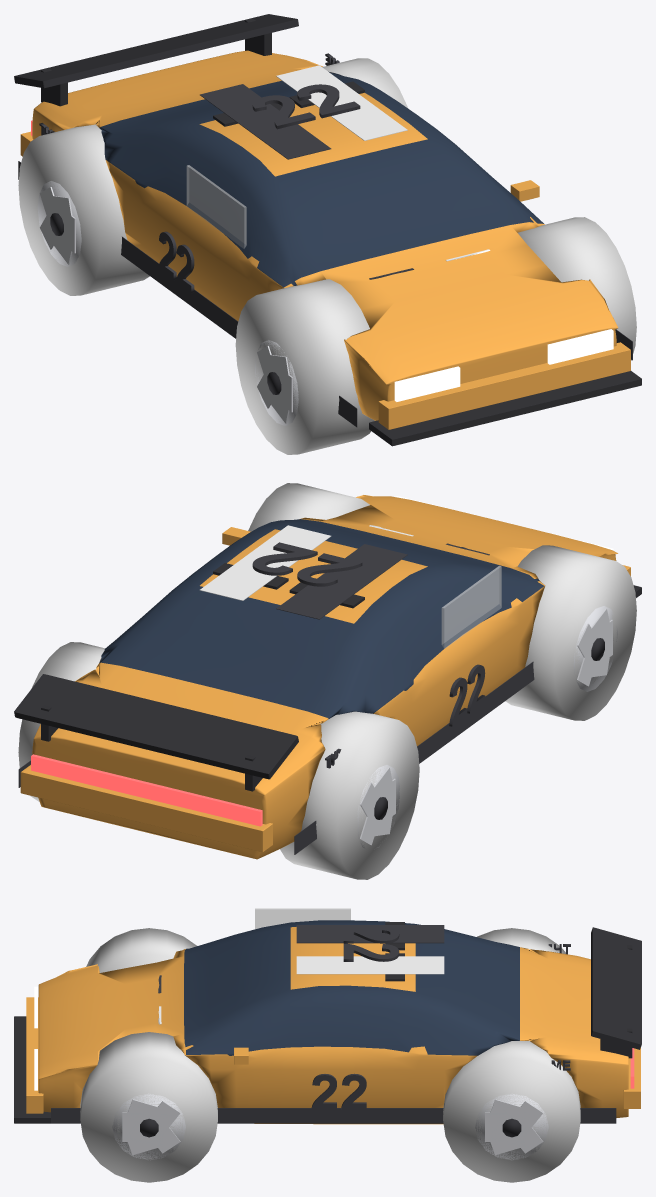
File: car_4.glb
3 renders of one model, top to bottom at view 1: azimuth 30°, elevation 25°; view 2: azimuth 150°, elevation 25°; view 3: azimuth 270°, elevation 25°, orthographic. The views are drawn at different scales.
Visible parts, largest first — view 1: body, cutter, cutter.002, bumperF, cutter.001, spoiler, splitter, roofL, roofR, net, sideS, Text.004 (+6 smaller); view 2: body, cutter.002, cutter, spoiler, bumperR, tail, roofL, cutter.001, roofR, net, sideS, cutter.003 (+4 smaller); view 3: body, cutter.001, cutter.003, spoiler, sideS.001, cutter, roofR, roofL, splitter, rim.001, rim.003, net (+16 smaller).
Boxes of the visible parts, x1,y1,x2,y2 form: body: [32, 50, 618, 420]; cutter: [235, 279, 374, 454]; cutter.002: [18, 124, 149, 295]; bumperF: [378, 342, 630, 429]; cutter.001: [518, 217, 636, 360]; spoiler: [14, 14, 298, 88]; splitter: [369, 371, 641, 446]; roofL: [200, 84, 331, 159]; roofR: [276, 65, 407, 140]; net: [186, 165, 246, 248]; sideS: [18, 161, 357, 427]; Text.004: [252, 84, 360, 129]; body: [32, 495, 617, 859]; cutter.002: [280, 711, 419, 879]; cutter: [505, 545, 636, 720]; spoiler: [14, 674, 298, 779]; bumperR: [20, 765, 272, 851]; tail: [31, 754, 262, 826]; roofL: [276, 544, 407, 619]; cutter.001: [248, 483, 369, 531]; roofR: [199, 525, 331, 600]; net: [441, 565, 501, 648]; sideS: [294, 661, 534, 854]; cutter.003: [18, 642, 104, 801]; body: [38, 920, 628, 1124]; cutter.001: [80, 1032, 217, 1182]; cutter.003: [443, 1040, 580, 1182]; spoiler: [591, 927, 641, 1049]; sideS.001: [51, 1108, 616, 1123]; cutter: [86, 928, 196, 972]; roofR: [296, 956, 444, 974]; roofL: [296, 925, 444, 943]; splitter: [14, 1016, 50, 1123]; rim.001: [112, 1093, 185, 1160]; rim.003: [475, 1093, 548, 1160]; net: [255, 908, 350, 929].
Bounding box in the file's own units: 2.56 × 1.57 × 5.11.
